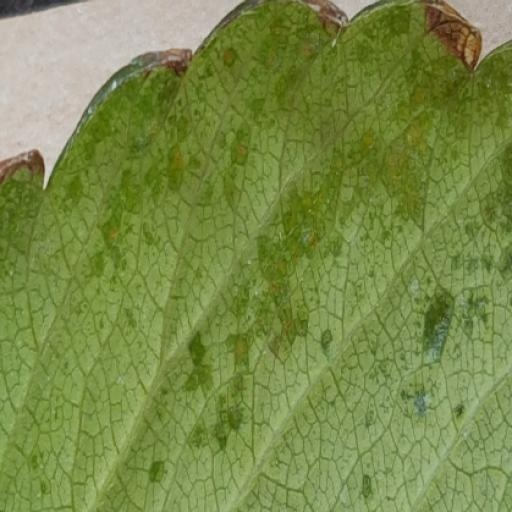Angular Leafspot: (0, 4, 511, 511)
